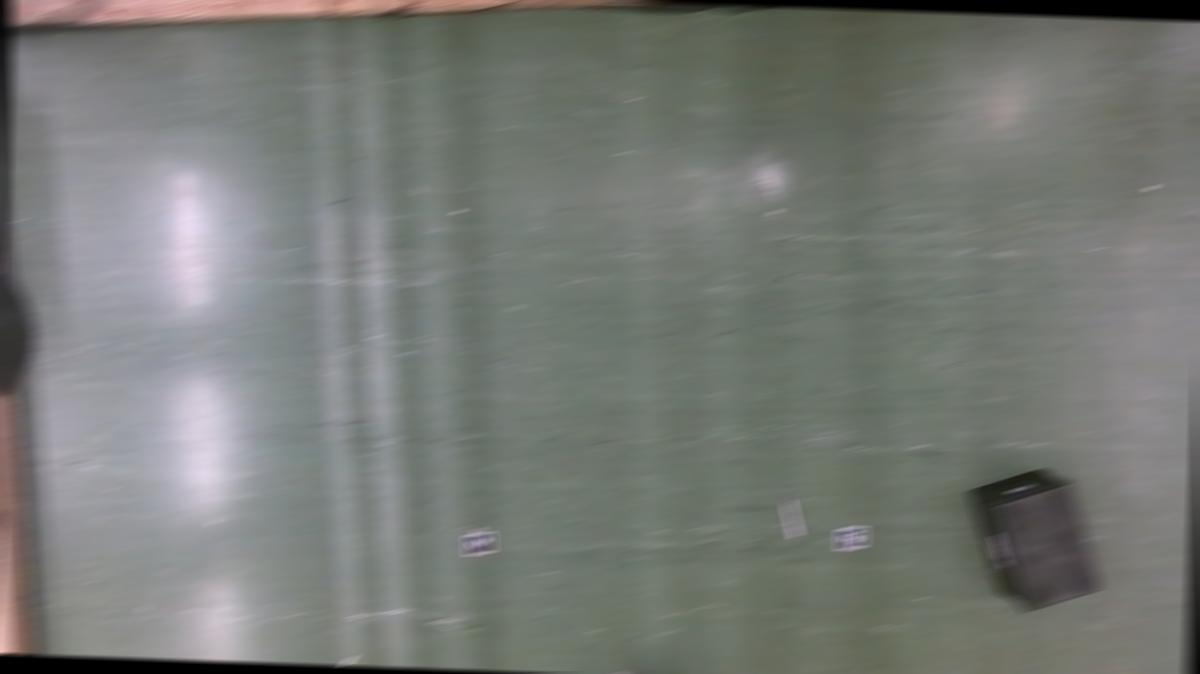probes: (780, 498, 802, 537), (327, 654, 355, 665)
rako: (964, 463, 1107, 612)
